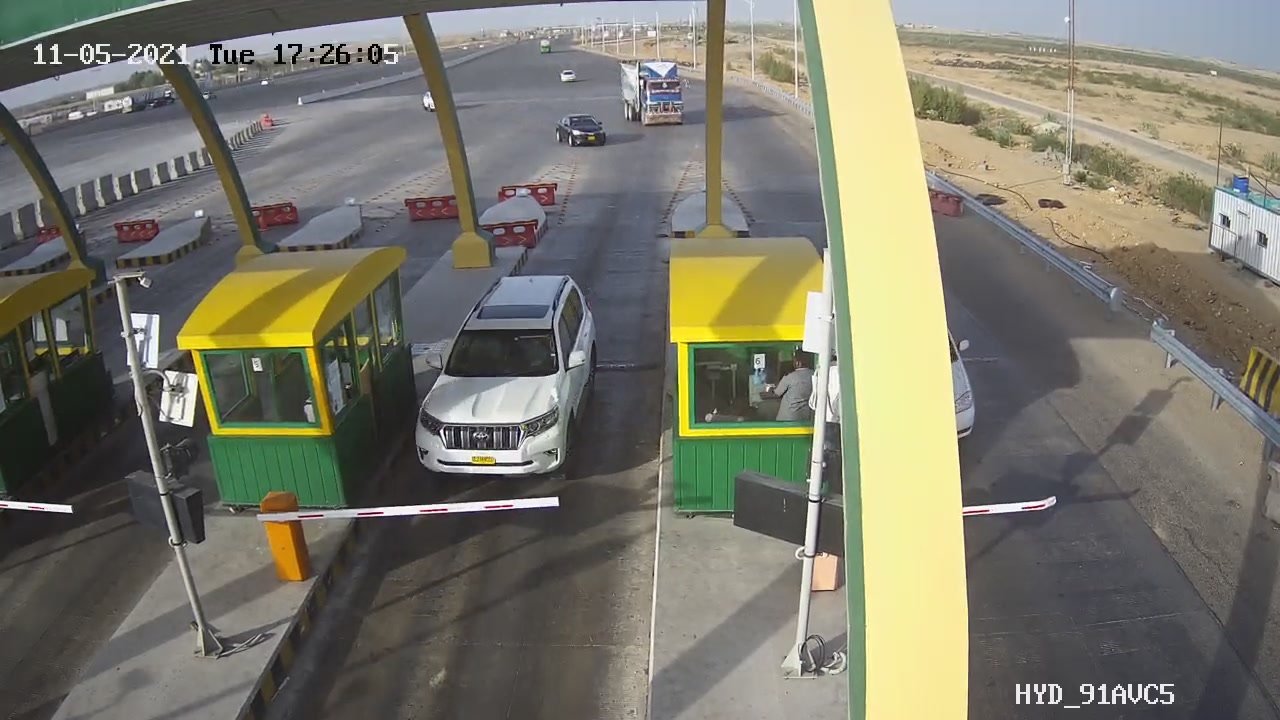F1: (386, 255, 617, 494)
